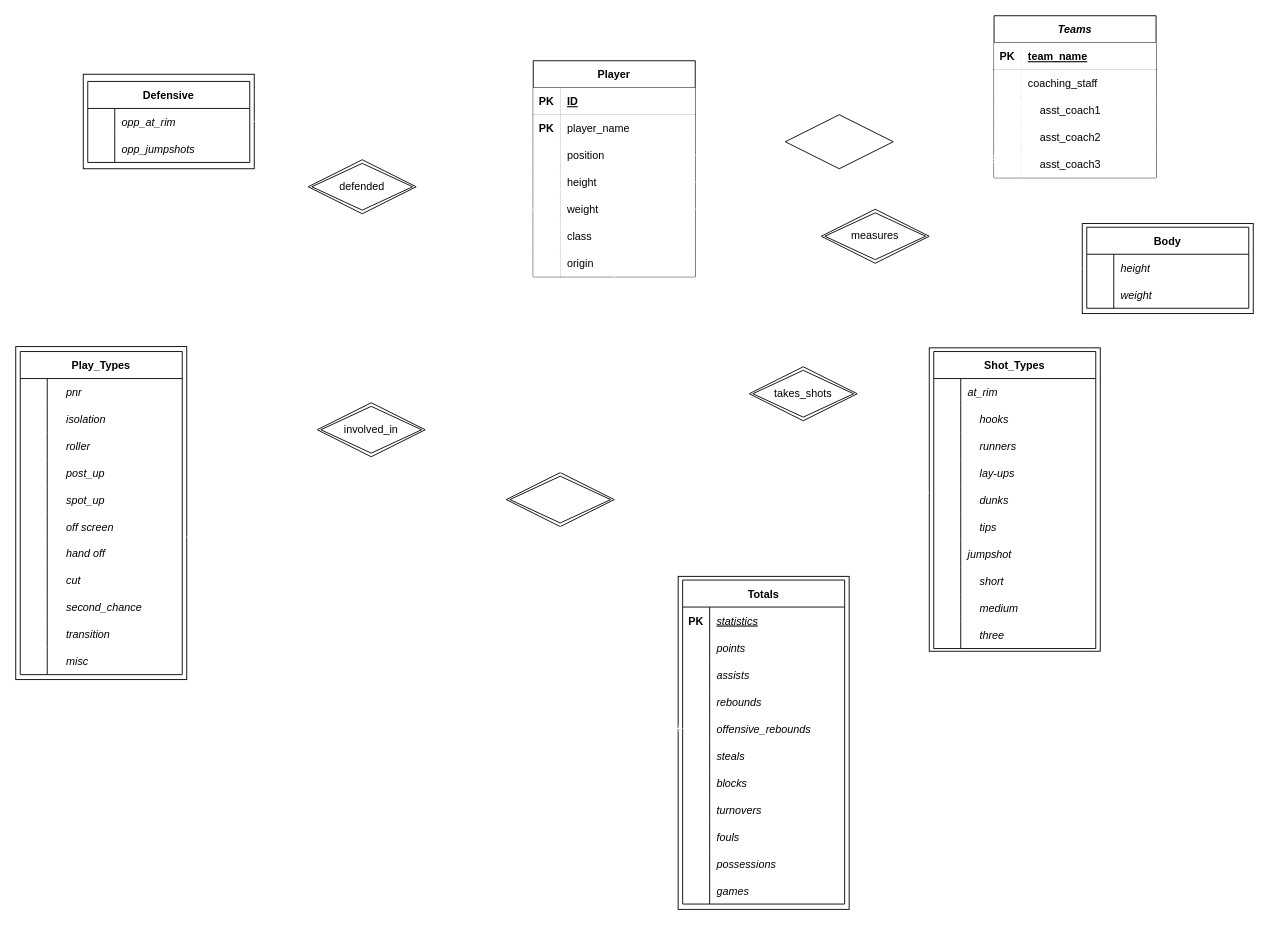
Image size: 1278x925. Some labels were removed from this diagram. The centre of each missing label's shape, as x and y in pixels:
"accumulated" belongs at (x=559, y=499).
"plays_for" belongs at (x=838, y=141).
